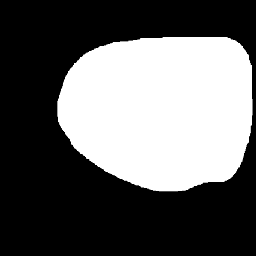mass: (51, 36, 253, 191)
